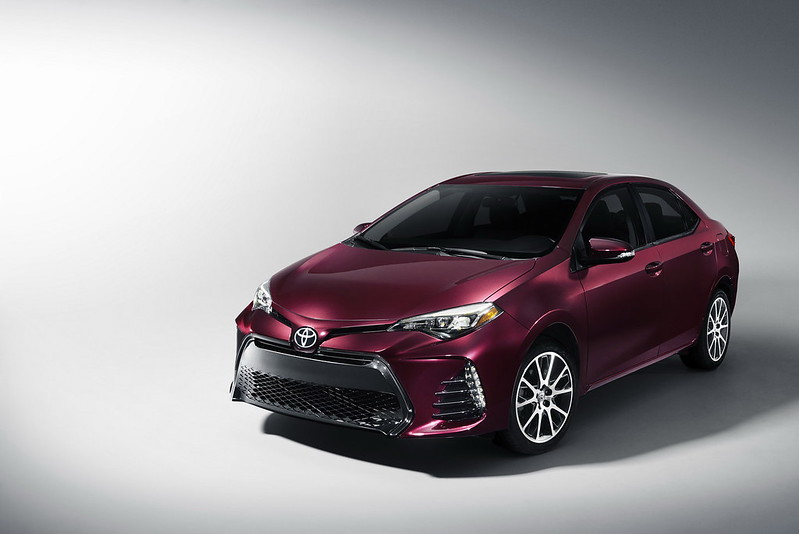car: (225, 168, 743, 456)
